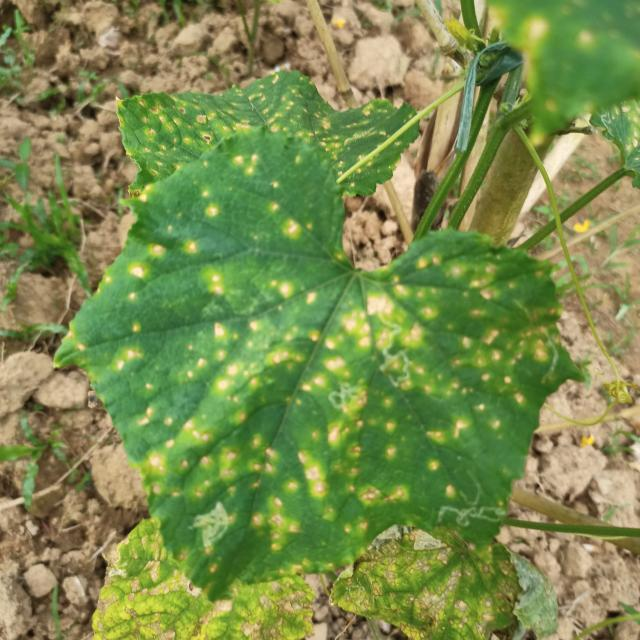disease_cucumber: (90, 254, 564, 566), (269, 199, 304, 242), (148, 236, 201, 258), (233, 150, 260, 179), (199, 184, 219, 223)
